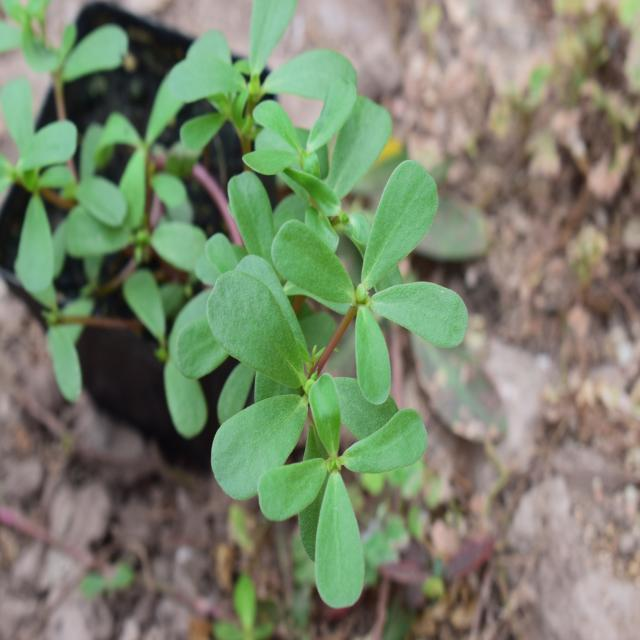purslane: (82, 6, 449, 572)
